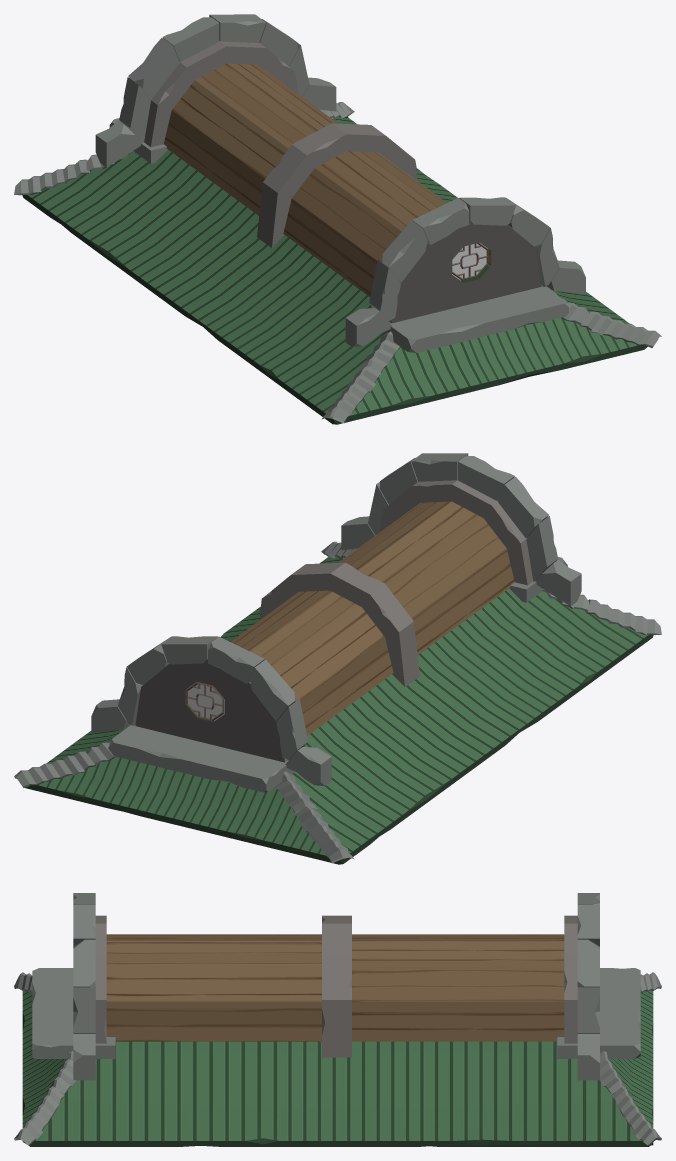
The model's file is SM_Env_Roof_06.fbx.
The picture shows the model from 3 angles, top to bottom: view 1: azimuth 30°, elevation 25°; view 2: azimuth 150°, elevation 25°; view 3: azimuth 270°, elevation 25°; orthographic projection.
Parts seen in each view (by area): view 1: SM_Env_Roof_06; view 2: SM_Env_Roof_06; view 3: SM_Env_Roof_06.
Part boxes in pixels (left/top/right/bottom): SM_Env_Roof_06: left=14, top=14, right=661, bottom=424; SM_Env_Roof_06: left=14, top=453, right=661, bottom=864; SM_Env_Roof_06: left=14, top=893, right=661, bottom=1146.
Size of the model in its own units: 348 by 158 by 568.
Materials: 1 (1 with a texture image).
